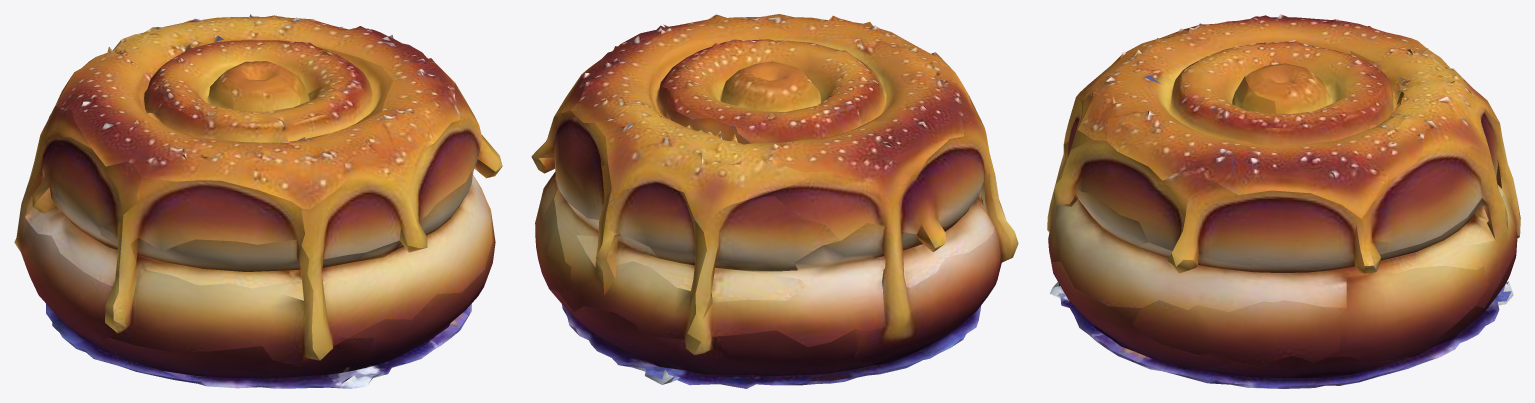
The model's file is sun_bun.glb.
3 views of the same model, side by side, from view 1: azimuth 30°, elevation 25°; view 2: azimuth 150°, elevation 25°; view 3: azimuth 270°, elevation 25° (orthographic).
Visible parts, largest first — view 1: sun_bun; view 2: sun_bun; view 3: sun_bun.
Part boxes in pixels (x1=…): sun_bun: x1=14, y1=14, x2=502, y2=388; sun_bun: x1=531, y1=14, x2=1018, y2=388; sun_bun: x1=1047, y1=14, x2=1520, y2=388.
Bounding box in the file's own units: 0.998 × 0.526 × 1.
1 material, 1 textured.
